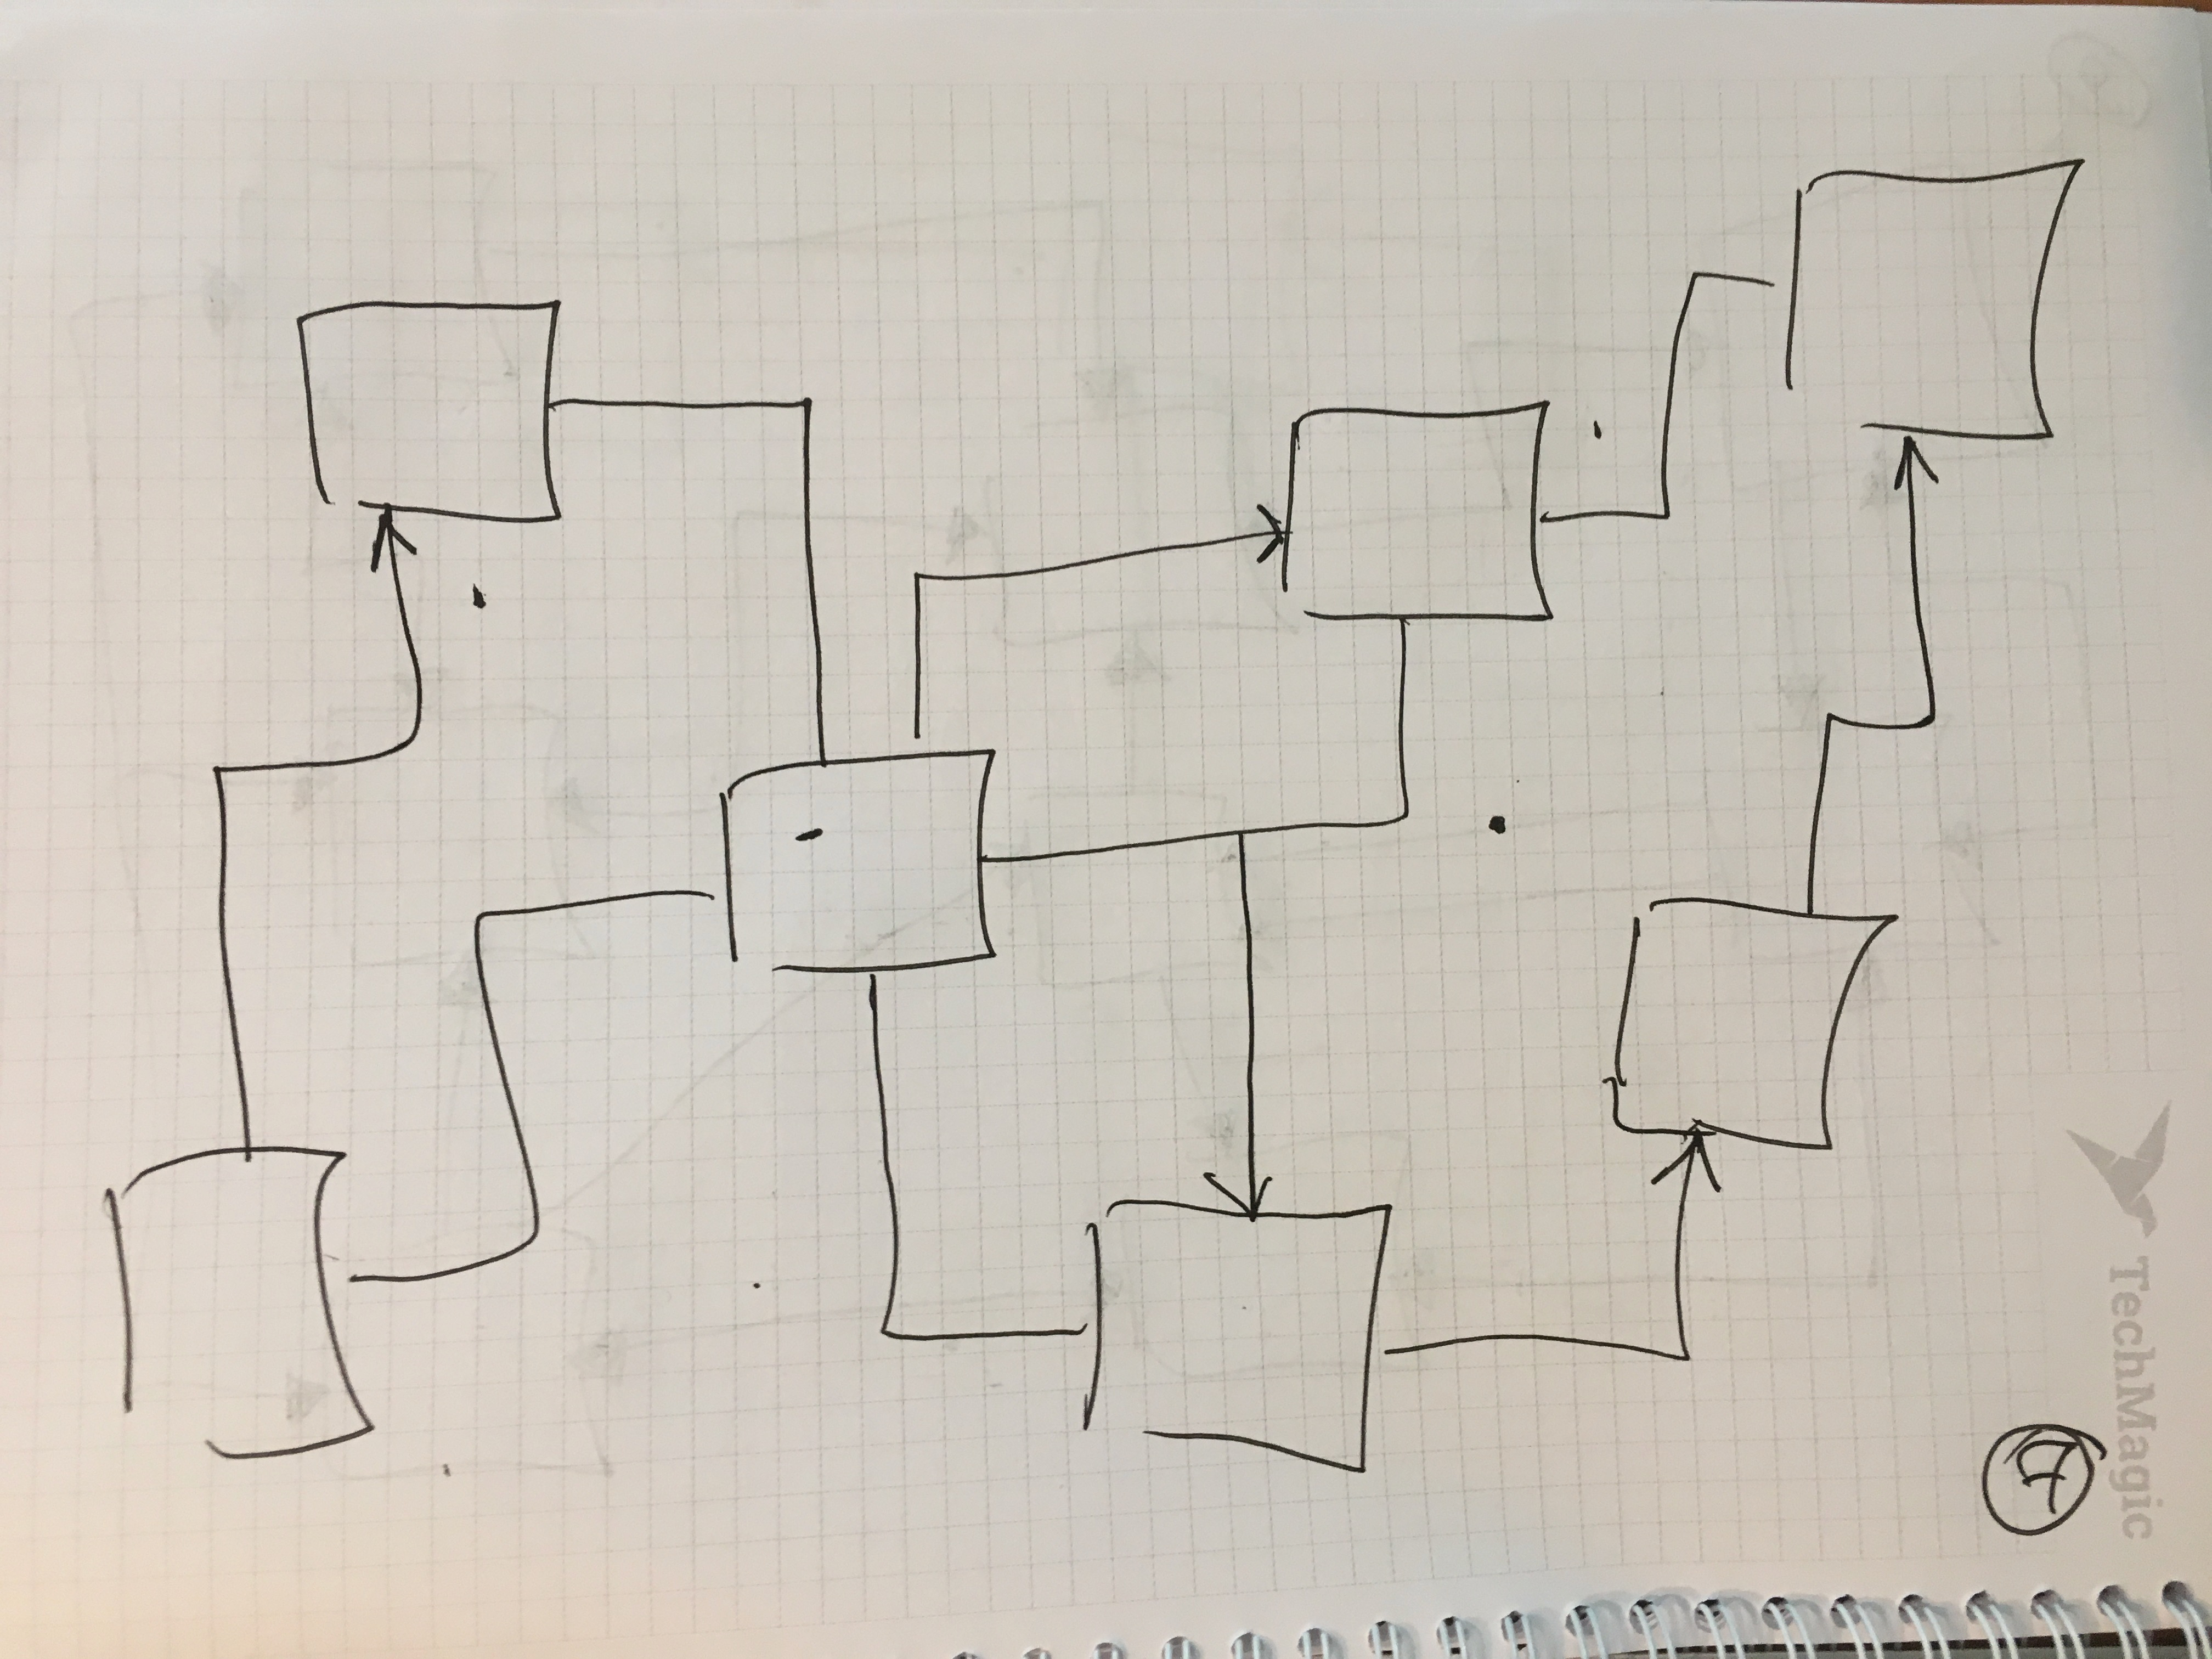arrow: (1651, 1108, 1724, 1260), (1209, 1103, 1292, 1229), (1886, 415, 1946, 559), (355, 488, 427, 592), (1209, 500, 1305, 575)
